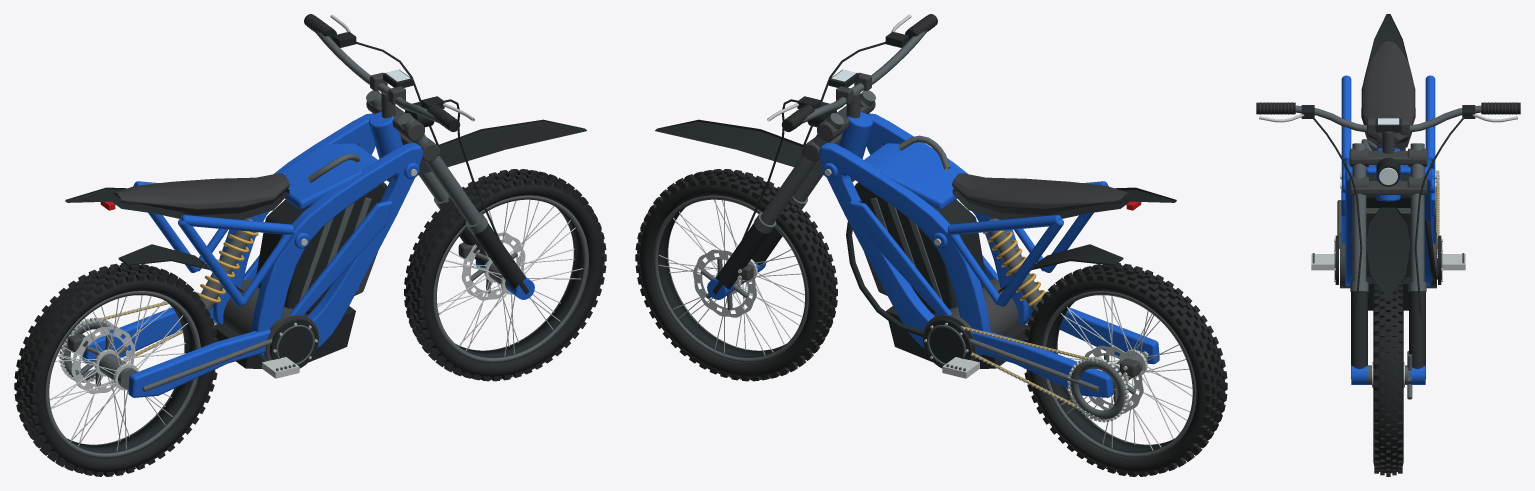
The model's file is sur-ron-light-bee-s.glb.
The picture shows the model from 3 angles, left to right: view 1: azimuth 30°, elevation 25°; view 2: azimuth 150°, elevation 25°; view 3: azimuth 270°, elevation 25°; orthographic projection. The views are drawn at different scales.
Parts seen in each view (by area): view 1: Chassis | Reference frame coating, RearWheel | Offroad tyre rubber, FrontWheel | Offroad tyre rubber, RearSuspension | Reference frame coating, Bodywork | Satin black polymer, Contoured narrow saddle, RearWheel | Machined satin aluminium, Removable model battery enclosure, FrontWheel | Machined satin aluminium, RearWheel | Anodized gunmetal, Battery lid, FrontWheel | Anodized gunmetal (+15 smaller); view 2: Chassis | Reference frame coating, RearWheel | Offroad tyre rubber, FrontWheel | Offroad tyre rubber, RearSuspension | Reference frame coating, Bodywork | Satin black polymer, Contoured narrow saddle, MotorMount | Satin black polymer, Removable model battery enclosure, FrontWheel | Machined satin aluminium, Battery lid, RearWheel | Machined satin aluminium, FrontWheel | Anodized gunmetal (+18 smaller); view 3: FrontWheel | Offroad tyre rubber, Bodywork | Satin black polymer, Contoured narrow saddle, Fork | Anodized gunmetal, Fork | Satin black polymer, Chassis | Reference frame coating, Fork | Cast graphite aluminium, Cockpit | Satin black polymer, RearSuspension | Reference frame coating, MotorMount | Satin black polymer, Swept riser handlebar, Cockpit | Offroad tyre rubber (+10 smaller).
Boxes of the visible parts, x1=… form: Chassis | Reference frame coating: x1=213, y1=111, x2=422, y2=357; RearWheel | Offroad tyre rubber: x1=14, y1=263, x2=218, y2=476; FrontWheel | Offroad tyre rubber: x1=404, y1=169, x2=606, y2=381; RearSuspension | Reference frame coating: x1=82, y1=181, x2=294, y2=397; Bodywork | Satin black polymer: x1=65, y1=119, x2=586, y2=292; Contoured narrow saddle: x1=113, y1=173, x2=289, y2=215; RearWheel | Machined satin aluminium: x1=49, y1=295, x2=187, y2=451; Removable model battery enclosure: x1=256, y1=182, x2=387, y2=313; FrontWheel | Machined satin aluminium: x1=437, y1=200, x2=582, y2=356; RearWheel | Anodized gunmetal: x1=45, y1=291, x2=200, y2=458; Battery lid: x1=279, y1=143, x2=377, y2=209; FrontWheel | Anodized gunmetal: x1=433, y1=195, x2=588, y2=362; Chassis | Reference frame coating: x1=819, y1=111, x2=1028, y2=356; RearWheel | Offroad tyre rubber: x1=1023, y1=263, x2=1227, y2=476; FrontWheel | Offroad tyre rubber: x1=635, y1=169, x2=837, y2=381; RearSuspension | Reference frame coating: x1=947, y1=181, x2=1159, y2=397; Bodywork | Satin black polymer: x1=655, y1=119, x2=1176, y2=292; Contoured narrow saddle: x1=952, y1=173, x2=1128, y2=215; MotorMount | Satin black polymer: x1=846, y1=200, x2=1028, y2=368; Removable model battery enclosure: x1=854, y1=182, x2=985, y2=313; FrontWheel | Machined satin aluminium: x1=658, y1=199, x2=804, y2=355; Battery lid: x1=864, y1=143, x2=962, y2=209; RearWheel | Machined satin aluminium: x1=1060, y1=295, x2=1192, y2=450; FrontWheel | Anodized gunmetal: x1=653, y1=195, x2=808, y2=362; FrontWheel | Offroad tyre rubber: x1=1373, y1=280, x2=1403, y2=476; Bodywork | Satin black polymer: x1=1363, y1=14, x2=1413, y2=296; Contoured narrow saddle: x1=1361, y1=41, x2=1415, y2=143; Fork | Anodized gunmetal: x1=1350, y1=143, x2=1426, y2=291; Fork | Satin black polymer: x1=1351, y1=291, x2=1425, y2=378; Chassis | Reference frame coating: x1=1341, y1=148, x2=1435, y2=286; Fork | Cast graphite aluminium: x1=1349, y1=148, x2=1427, y2=194; Cockpit | Satin black polymer: x1=1301, y1=105, x2=1475, y2=318; RearSuspension | Reference frame coating: x1=1341, y1=75, x2=1435, y2=193; MotorMount | Satin black polymer: x1=1335, y1=220, x2=1441, y2=310; Swept riser handlebar: x1=1295, y1=105, x2=1481, y2=132; Cockpit | Offroad tyre rubber: x1=1256, y1=102, x2=1520, y2=114.
Size of the model in its own units: 1.75 by 0.9771 by 0.756.
